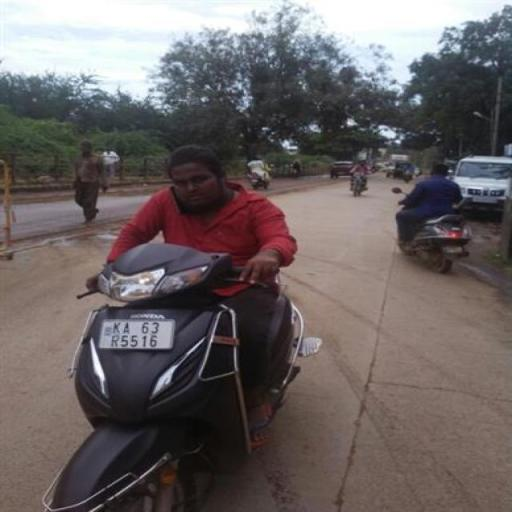numberplate: (98, 318, 175, 351)
using mobile: (164, 179, 198, 223)
